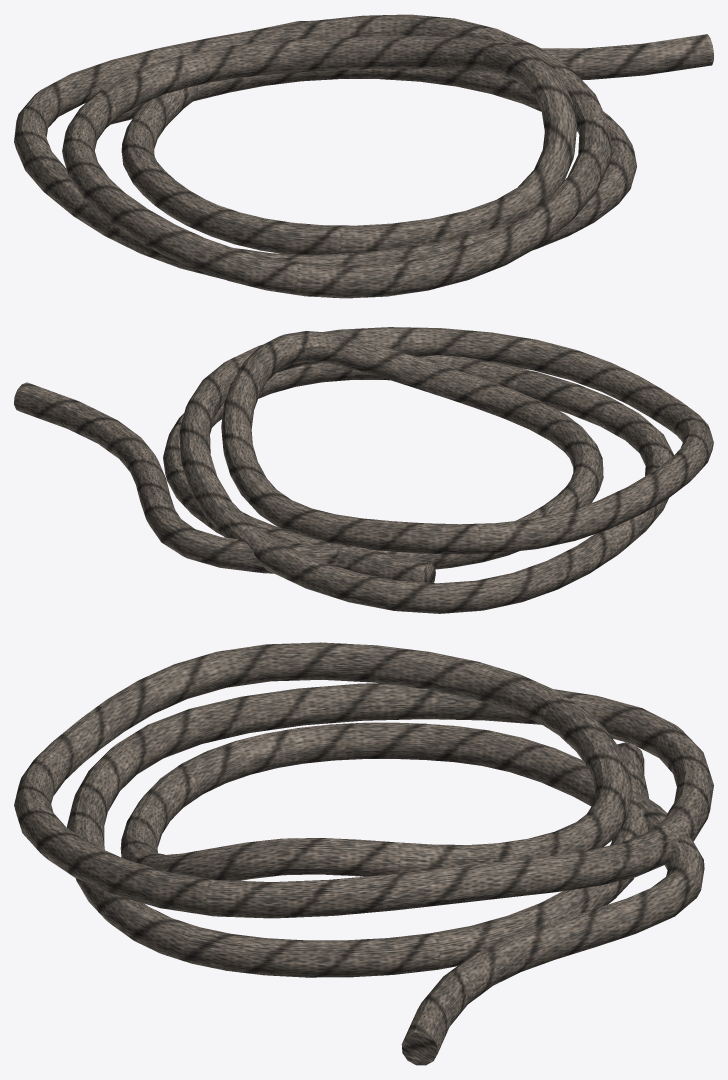
Rendered from SM_Rope_Bundle_01.fbx.
3 renders of one model, top to bottom at view 1: azimuth 30°, elevation 25°; view 2: azimuth 150°, elevation 25°; view 3: azimuth 270°, elevation 25°, orthographic. The views are drawn at different scales.
Parts seen in each view (by area): view 1: SM_Rope_Bundle_01_LOD0; view 2: SM_Rope_Bundle_01_LOD0; view 3: SM_Rope_Bundle_01_LOD0.
Boxes of the visible parts, box(x1,y1,x2,y2) form: SM_Rope_Bundle_01_LOD0: box(14, 14, 713, 298); SM_Rope_Bundle_01_LOD0: box(14, 327, 713, 613); SM_Rope_Bundle_01_LOD0: box(14, 642, 713, 1065).
Bounding box in the file's own units: 95.08 × 77.53 × 12.82.
1 material, 1 textured.
